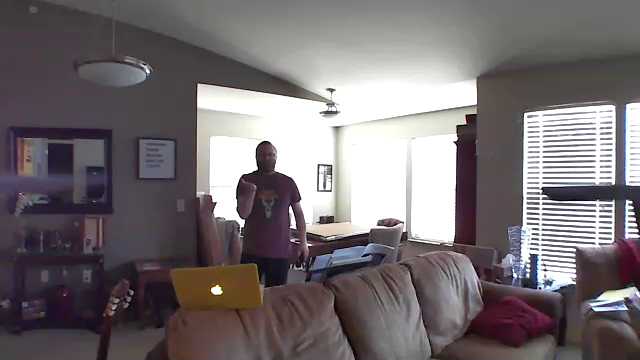land: (237, 174, 261, 194)
